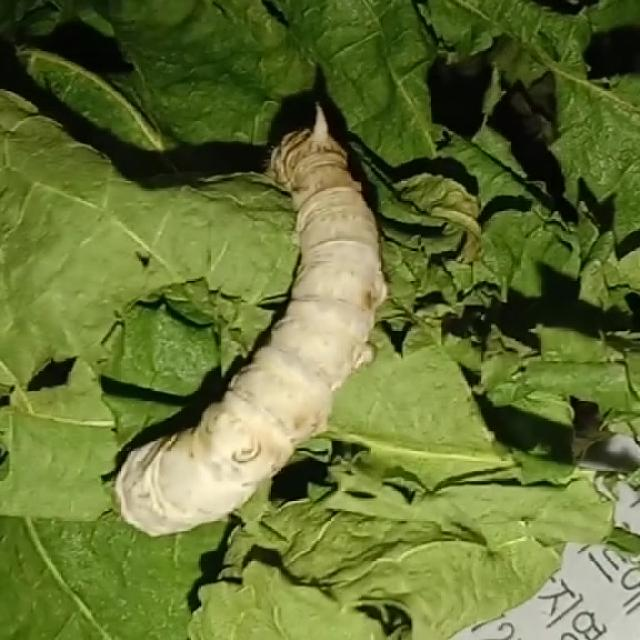Grasserie: (105, 125, 415, 544)
